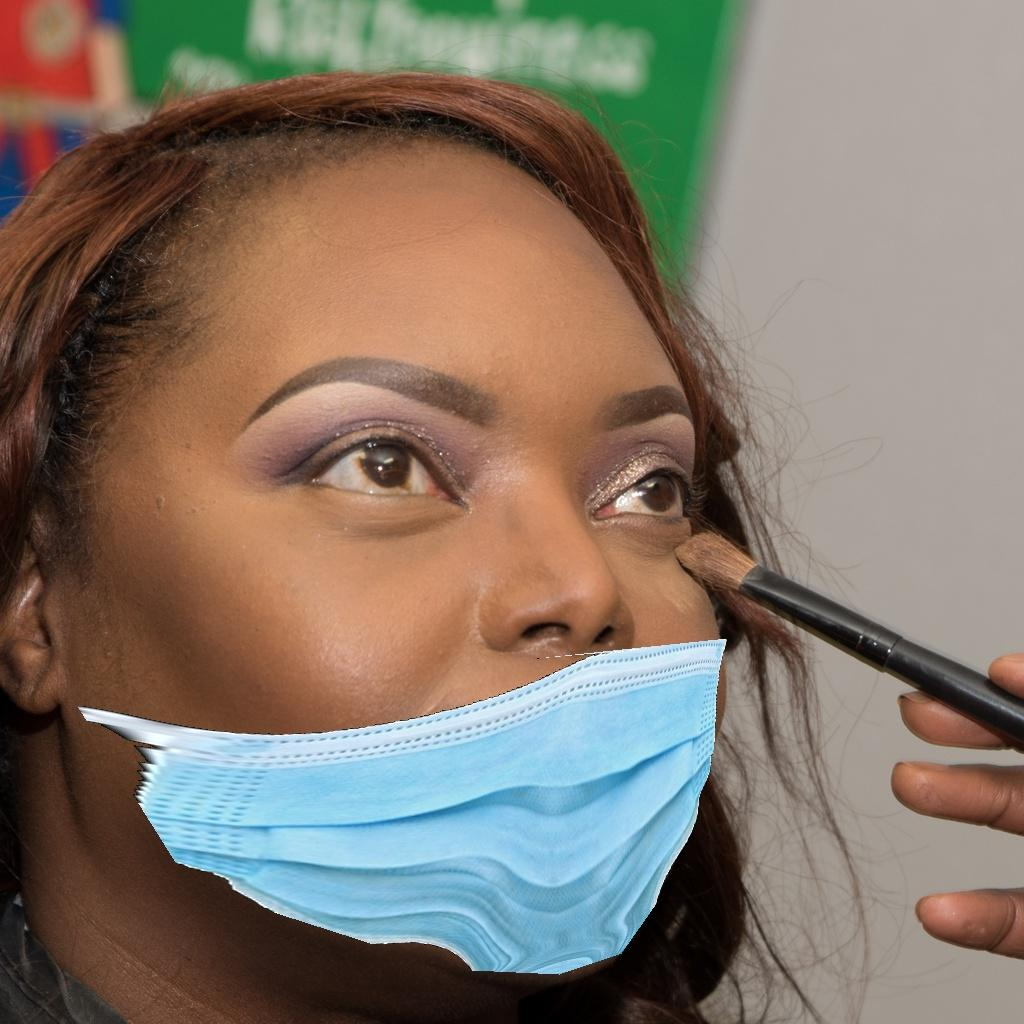Máscara Incorreta: (78, 222, 755, 964)
